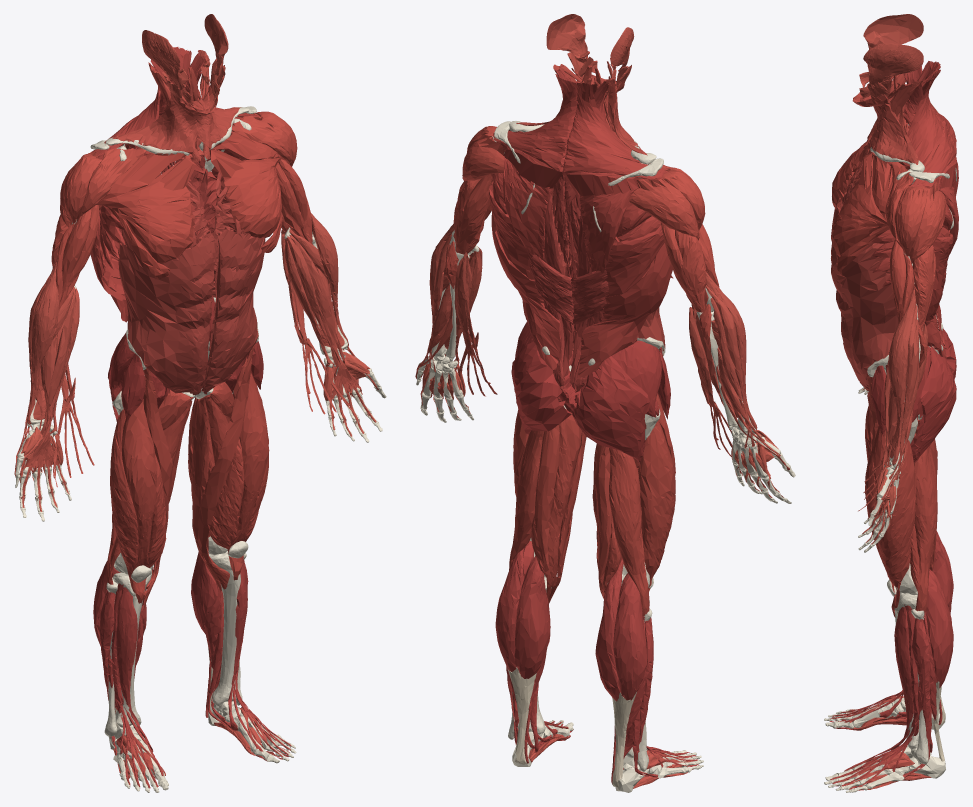
The model's file is limbs.glb.
3 views of the same model, side by side, from view 1: azimuth 30°, elevation 25°; view 2: azimuth 150°, elevation 25°; view 3: azimuth 270°, elevation 25° (orthographic). The views are drawn at different scales.
Parts seen in each view (by area): view 1: m_external-oblique_R, m_pectoralis-major_R, m_external-oblique_L, m_pectoralis-major_L, m_rectus-femoris_R, m_rectus-femoris_L, m_deltoid_R, m_sartorius_L, m_vastus-lateralis_R, m_platysma_R, b_tibia_L, m_vastus-medialis_L (+41 smaller); view 2: m_trapezius_R, m_latissimus-dorsi_R, m_trapezius_L, m_gluteus-maximus_R, m_gastrocnemius_L, m_gastrocnemius_R, m_vastus-lateralis_R, m_latissimus-dorsi_L, m_biceps-femoris_R, m_gluteus-maximus_L, m_deltoid_R, m_triceps-brachii_R (+27 smaller); view 3: m_external-oblique_L, m_pectoralis-major_L, m_deltoid_L, m_trapezius_L, m_biceps-femoris_L, m_vastus-lateralis_L, m_gluteus-maximus_L, m_gastrocnemius_L, m_brachioradialis_L, m_platysma_L, b_foot-bones_L, m_temporalis_L (+39 smaller).
Boxes of the visible parts, left/top/right/bottom form: m_external-oblique_R: left=118, top=231, right=215, bottom=394; m_pectoralis-major_R: left=96, top=152, right=196, bottom=279; m_external-oblique_L: left=203, top=229, right=265, bottom=392; m_pectoralis-major_L: left=210, top=132, right=284, bottom=252; m_rectus-femoris_R: left=121, top=377, right=157, bottom=603; m_rectus-femoris_L: left=227, top=357, right=269, bottom=580; m_deltoid_R: left=60, top=148, right=146, bottom=227; m_sartorius_L: left=198, top=342, right=256, bottom=589; m_vastus-lateralis_R: left=110, top=409, right=138, bottom=592; m_platysma_R: left=112, top=92, right=208, bottom=153; b_tibia_L: left=209, top=551, right=243, bottom=706; m_vastus-medialis_L: left=209, top=439, right=244, bottom=570; m_trapezius_R: left=562, top=81, right=666, bottom=273; m_latissimus-dorsi_R: left=578, top=225, right=672, bottom=377; m_trapezius_L: left=494, top=76, right=576, bottom=260; m_gluteus-maximus_R: left=572, top=356, right=650, bottom=462; m_gastrocnemius_L: left=495, top=548, right=550, bottom=678; m_gastrocnemius_R: left=595, top=558, right=646, bottom=701; m_vastus-lateralis_R: left=638, top=420, right=675, bottom=589; m_latissimus-dorsi_L: left=489, top=182, right=561, bottom=369; m_biceps-femoris_R: left=609, top=448, right=649, bottom=615; m_gluteus-maximus_L: left=511, top=341, right=571, bottom=434; m_deltoid_R: left=629, top=163, right=705, bottom=240; m_triceps-brachii_R: left=660, top=222, right=708, bottom=312; m_external-oblique_L: left=831, top=231, right=898, bottom=391; m_pectoralis-major_L: left=832, top=152, right=892, bottom=275; m_deltoid_L: left=885, top=162, right=946, bottom=263; m_trapezius_L: left=906, top=69, right=958, bottom=262; m_biceps-femoris_L: left=910, top=446, right=937, bottom=612; m_vastus-lateralis_L: left=875, top=440, right=915, bottom=608; m_gluteus-maximus_L: left=910, top=346, right=956, bottom=462; m_gastrocnemius_L: left=926, top=569, right=953, bottom=688; m_brachioradialis_L: left=888, top=284, right=916, bottom=465; m_platysma_L: left=852, top=94, right=918, bottom=164; b_foot-bones_L: left=824, top=746, right=945, bottom=792; m_temporalis_L: left=863, top=43, right=923, bottom=84.
Size of the model in its own units: 0.8564 by 1.6 by 0.2702.
